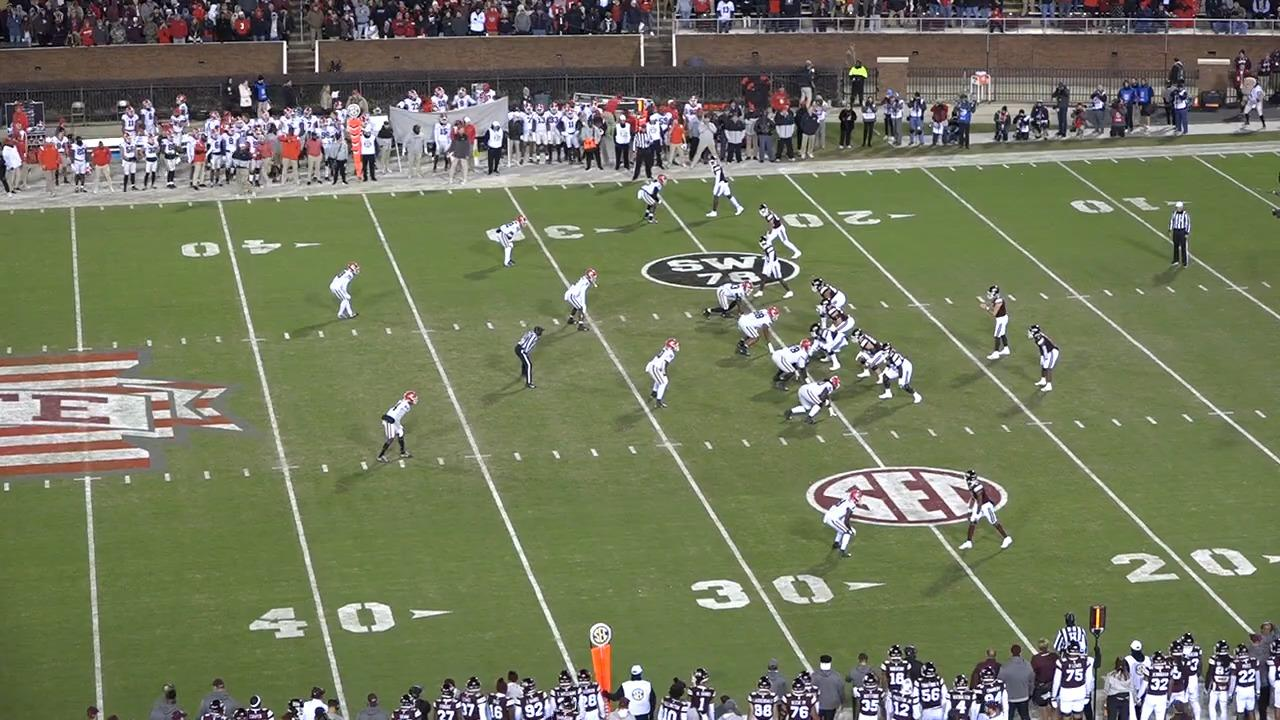defense: (374, 390, 418, 466), (820, 488, 860, 561), (786, 375, 843, 425), (650, 336, 683, 411), (772, 342, 816, 395), (732, 307, 776, 359), (568, 266, 602, 332), (700, 279, 753, 320), (332, 264, 365, 325), (497, 214, 528, 269), (640, 170, 670, 224)
oline: (879, 343, 926, 406), (852, 328, 891, 386), (804, 323, 842, 372), (819, 301, 858, 339), (811, 276, 848, 308)
qb: (977, 283, 1008, 364)
ref: (629, 118, 666, 180), (1165, 200, 1195, 269), (510, 326, 539, 393), (1049, 607, 1085, 659)
skill: (957, 467, 1018, 557), (748, 237, 790, 303), (758, 203, 803, 263), (711, 159, 750, 222), (1031, 326, 1065, 397)
